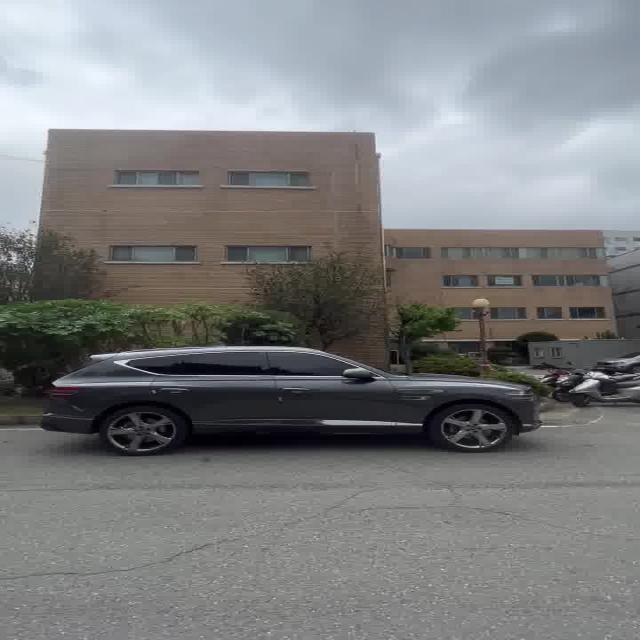building: (43, 127, 615, 316)
